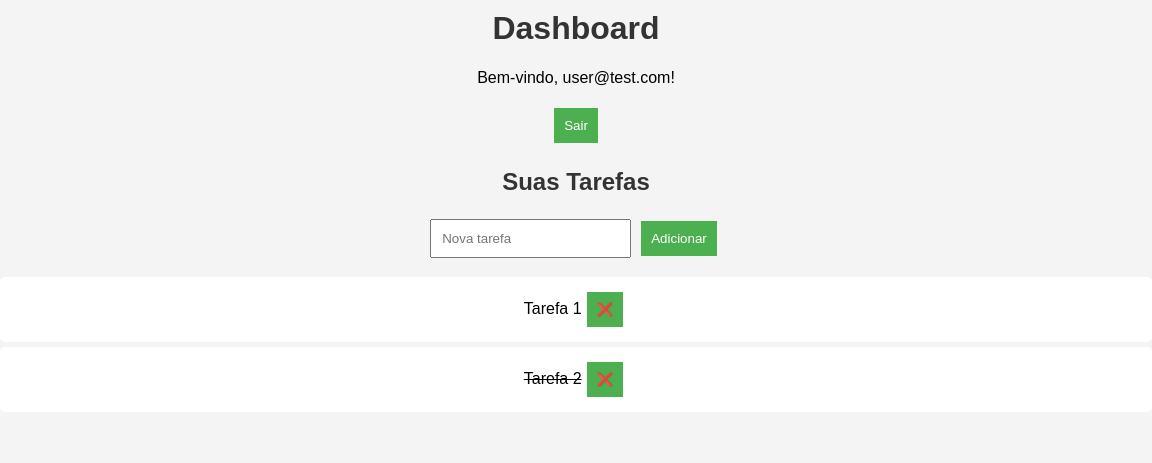
Test: Dashboard Component › deve mostrar mensagens de sucesso
# Teste de mensagem de sucesso
In the field with placeholder "Nova tarefa": (531, 238) [430,219,631,258], type "Tarefa válida"
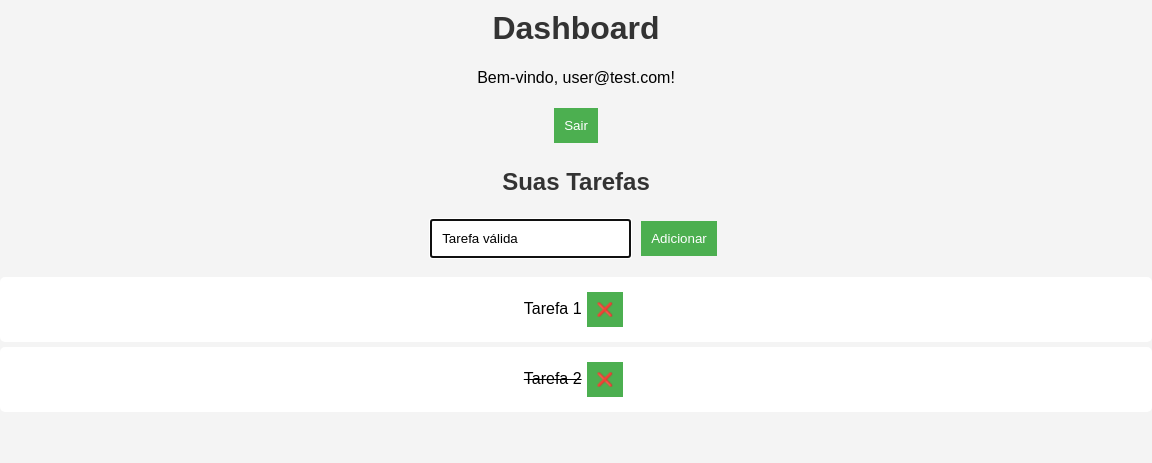
Click the button "Adicionar": (679, 238) [641,221,717,256]
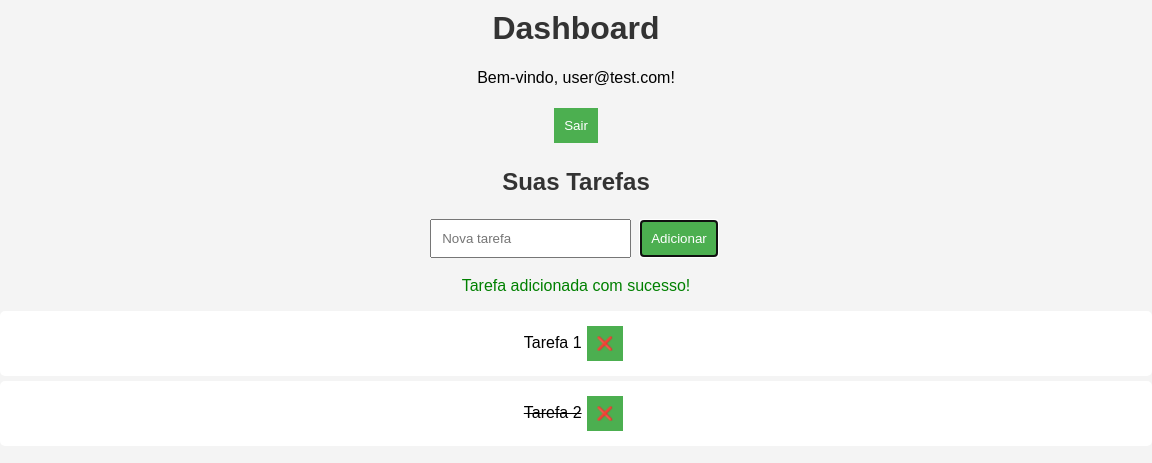
Check: the text "Tarefa adicionada com sucesso!" is shown, box [462,277,690,294]
